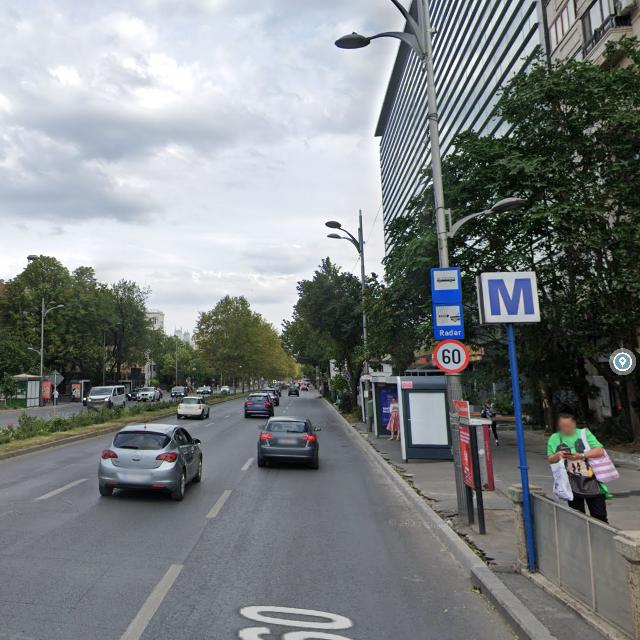forb_speed_over_60: (433, 339, 470, 373)
info_bus_station: (431, 268, 462, 303)
